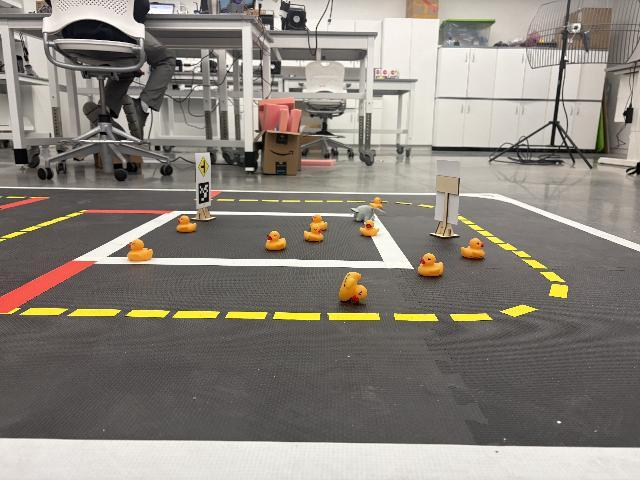Duck: (339, 271, 367, 304), (417, 252, 444, 277), (127, 238, 153, 262), (461, 238, 485, 260), (303, 221, 325, 242), (265, 230, 286, 251), (359, 218, 379, 237), (176, 215, 197, 233), (310, 214, 327, 231), (369, 197, 384, 209)
